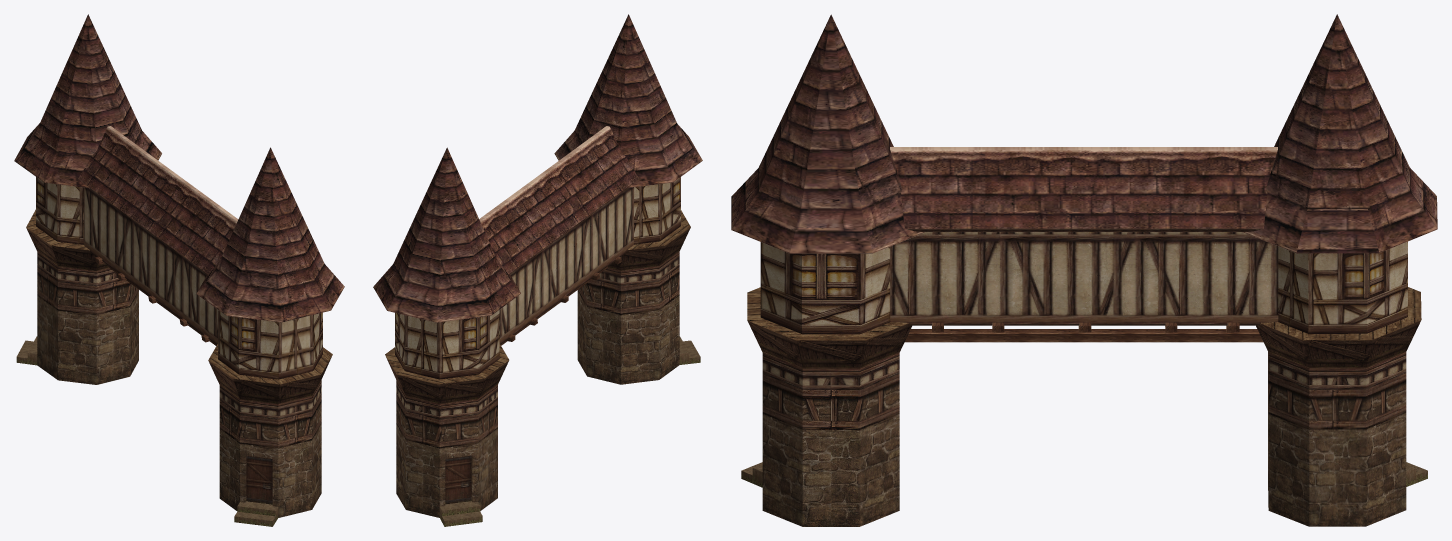
File: ti_gate.glb
The picture shows the model from 3 angles, left to right: view 1: azimuth 30°, elevation 25°; view 2: azimuth 150°, elevation 25°; view 3: azimuth 270°, elevation 25°; orthographic projection. The views are drawn at different scales.
Parts seen in each view (by area): view 1: TI_Gate; view 2: TI_Gate; view 3: TI_Gate.
Part boxes in pixels (x1,y1,x2,y2): TI_Gate: (14, 14, 344, 526); TI_Gate: (373, 14, 702, 526); TI_Gate: (731, 14, 1437, 526).
Bounding box in the file's own units: 1.7 × 4.75 × 6.27.
Materials: 12 (12 with a texture image).
